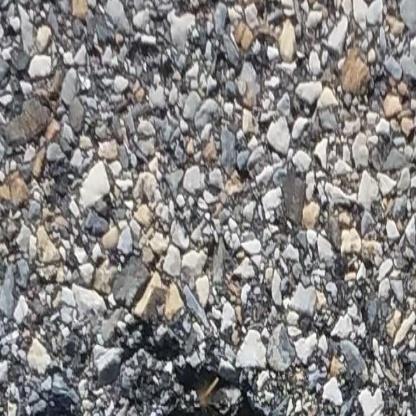Cracks: (144, 363, 300, 416), (43, 402, 132, 416)
